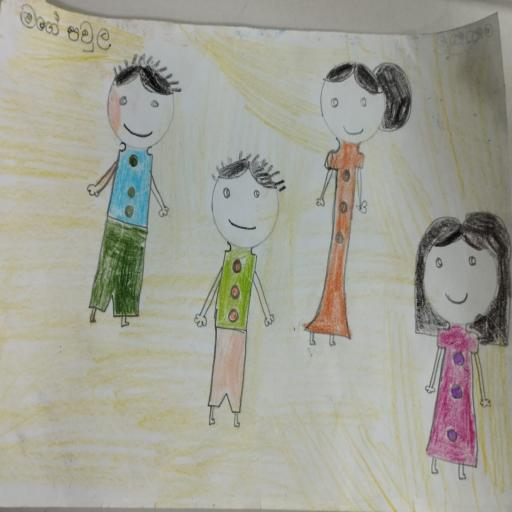person: (298, 54, 416, 354), (74, 55, 184, 331), (188, 147, 291, 434), (409, 209, 512, 487)
